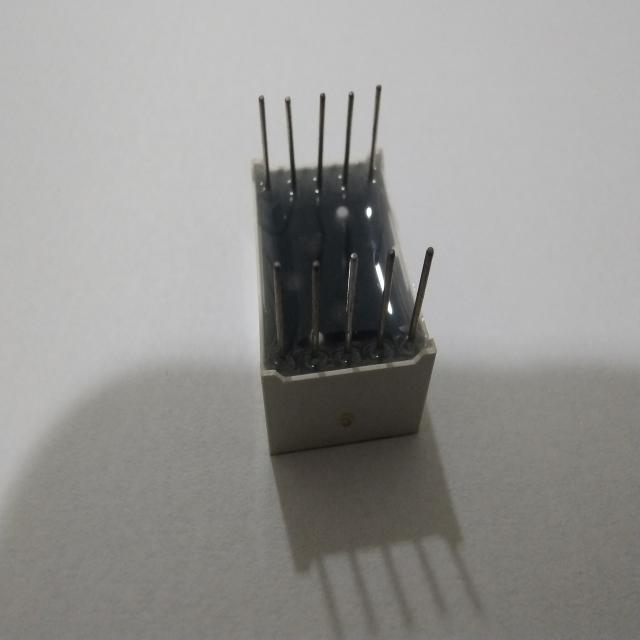7_segments: (246, 84, 444, 461)
